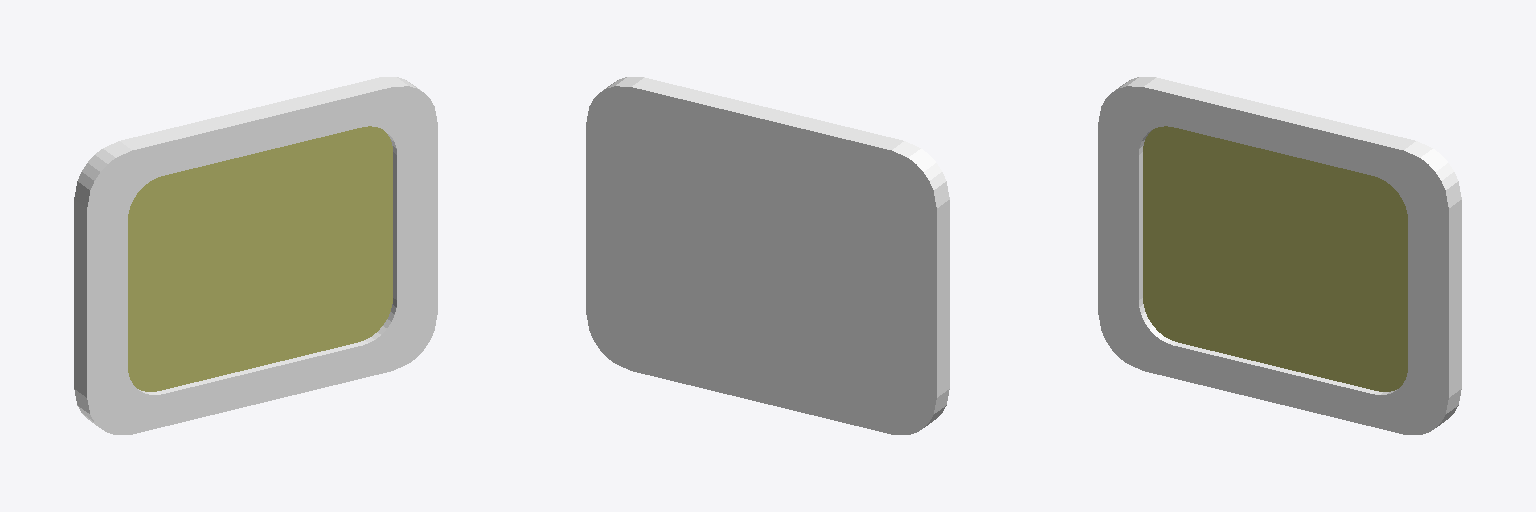
Rendered from sign.obj.
The picture shows the model from 3 angles: view 1: azimuth 30°, elevation 25°; view 2: azimuth 150°, elevation 25°; view 3: azimuth 330°, elevation 25°; orthographic projection.
Parts seen in each view (by area): view 1: object_1, object_2; view 2: object_2; view 3: object_1, object_2.
Part boxes in pixels (bbox=[...]): object_1: bbox=[128, 126, 392, 391]; object_2: bbox=[74, 77, 437, 434]; object_2: bbox=[586, 77, 949, 434]; object_1: bbox=[1143, 126, 1407, 391]; object_2: bbox=[1098, 77, 1461, 434].
Size of the model in its own units: 31 by 24 by 2.